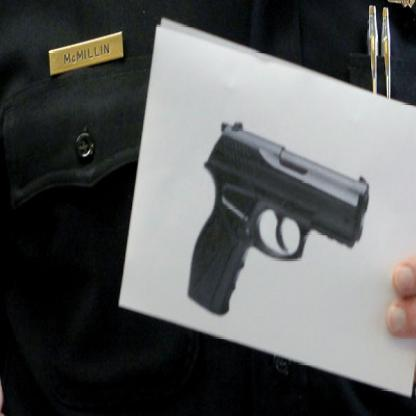gun: (175, 106, 369, 324)
